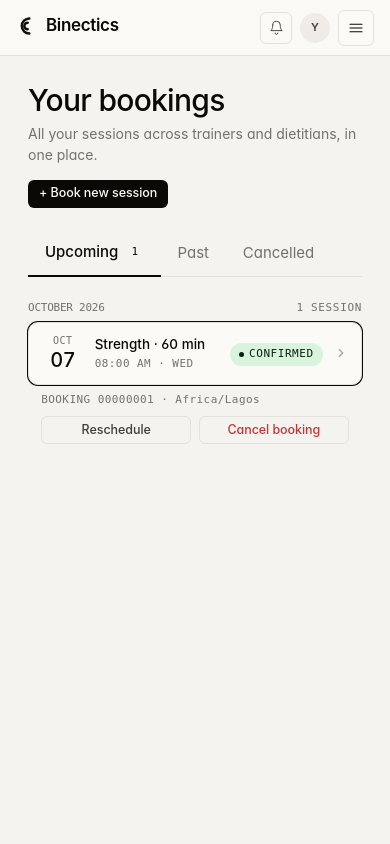
it: My bookings › on phones, where there is no detail column › Reschedule opens the page's one reschedule dialog
The image size is (390, 844).
Click the button "Reschedule". click: (116, 430)
box: [41, 416, 191, 444]
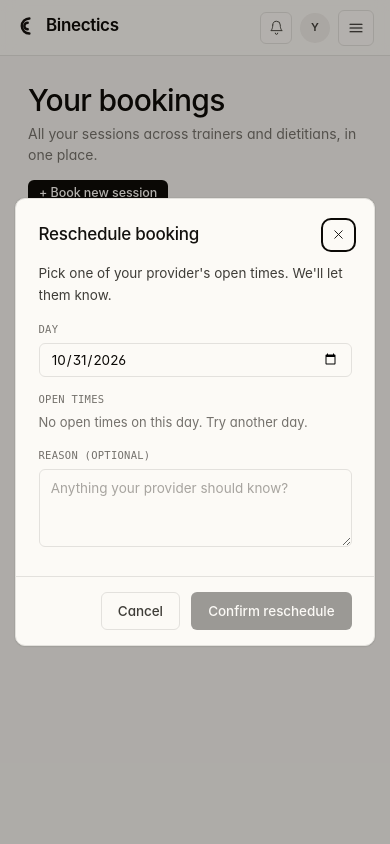
Expected: the number of dialogs is 1, [15, 198, 375, 646]
Expected: the heading "Reschedule booking" is shown, [38, 222, 199, 248]
